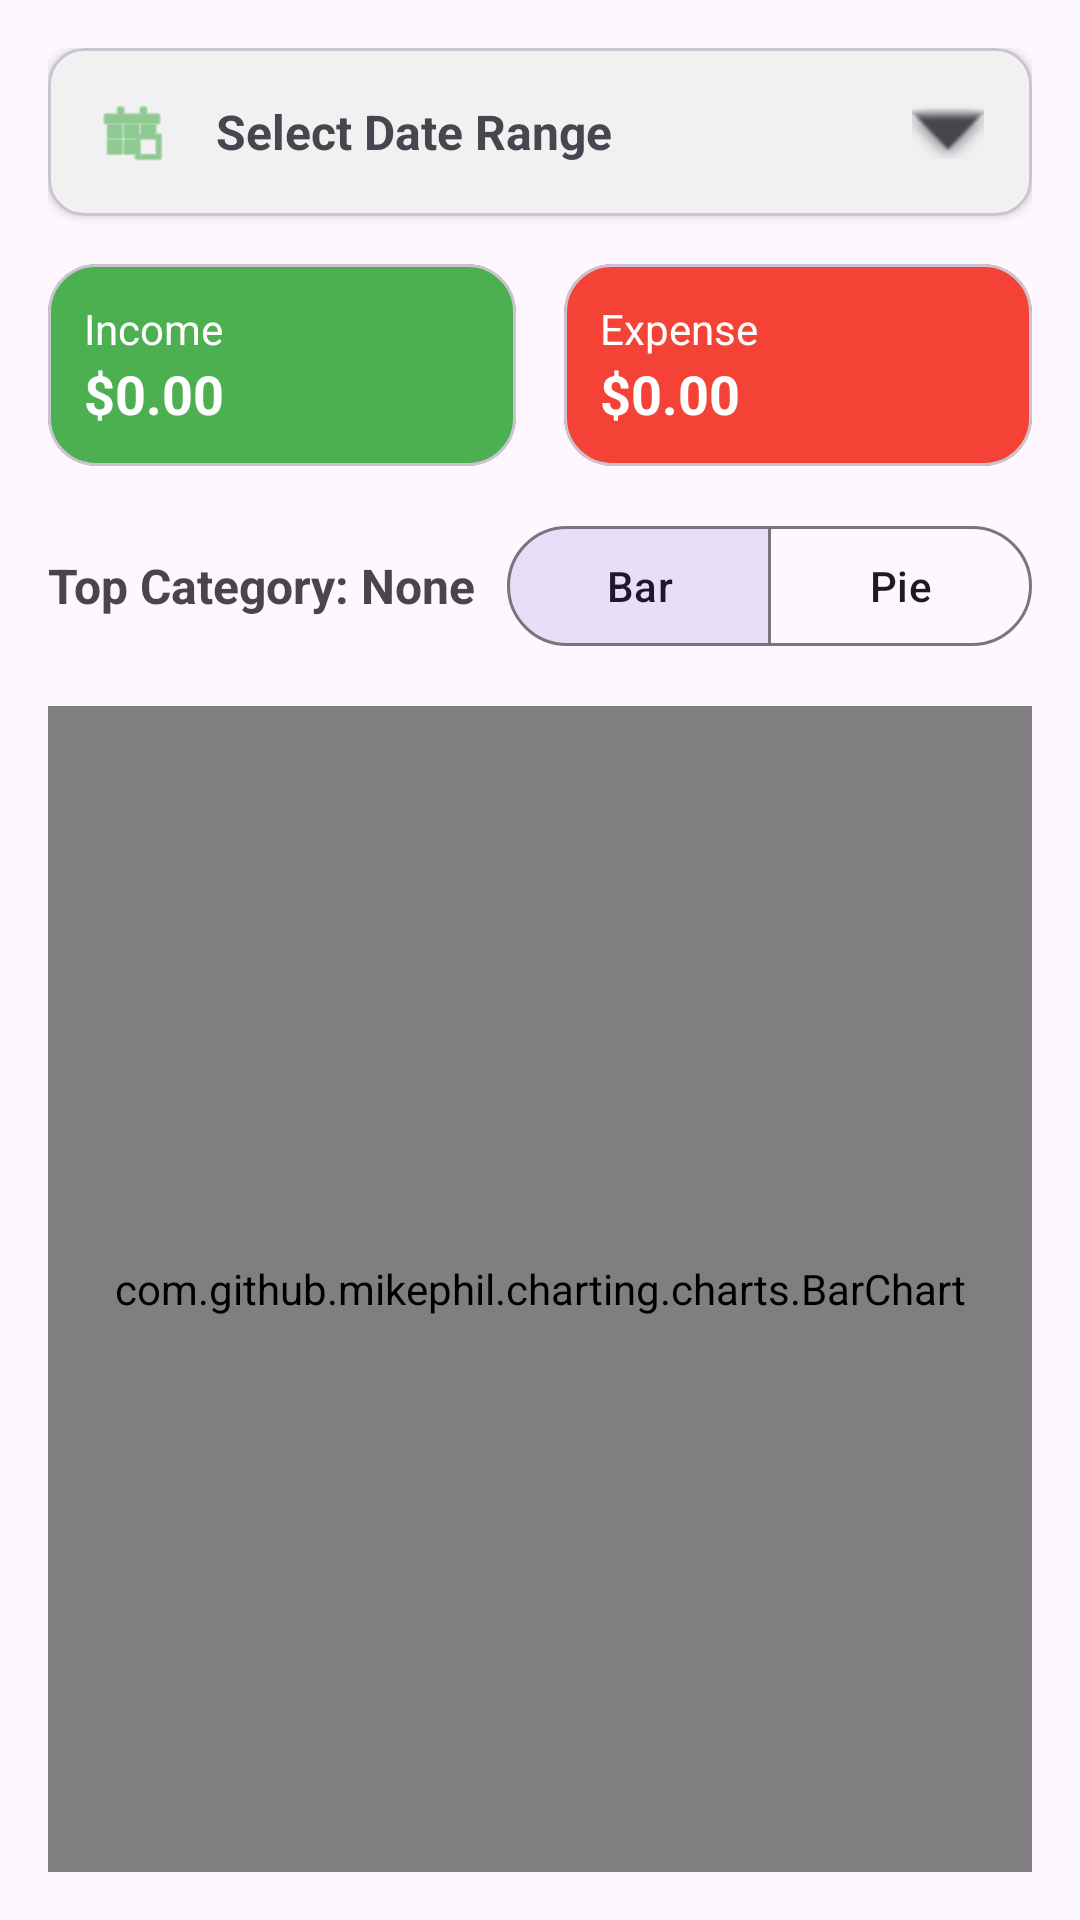

Icon bounding boxes for this 1080×1920 phone screenshot, format (x1, y1, x2, y2):
arrow down float: (912, 109, 984, 155)
today: (103, 106, 162, 160)
